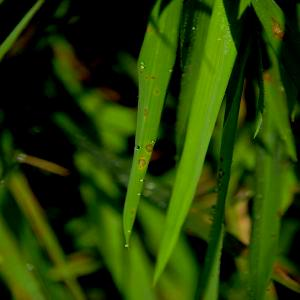1 RiceBlast: (142, 135, 163, 158)
